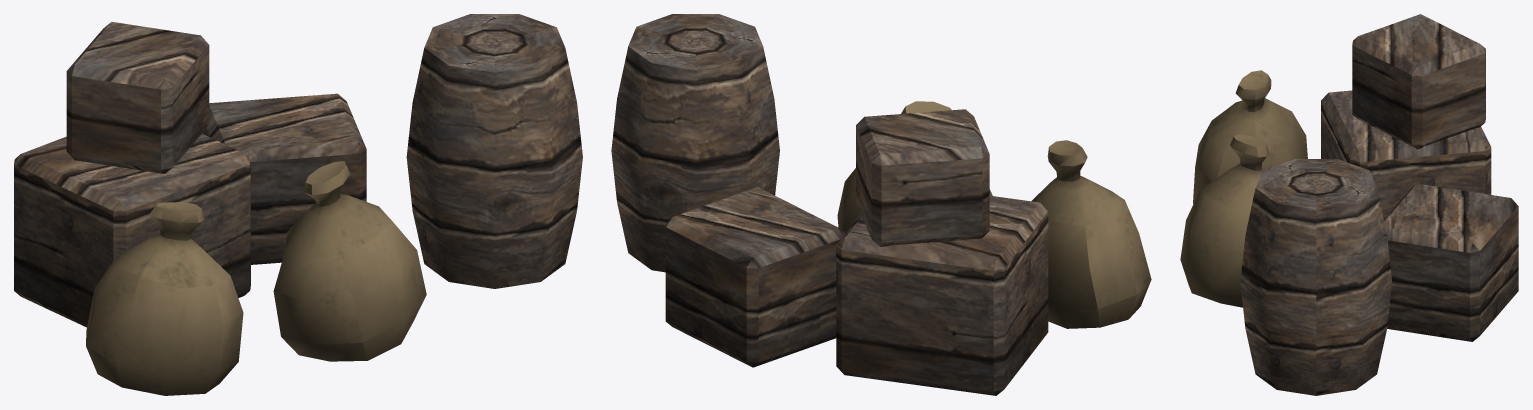
Rendered from camp_crates.glb.
The picture shows the model from 3 angles, left to right: view 1: azimuth 30°, elevation 25°; view 2: azimuth 150°, elevation 25°; view 3: azimuth 270°, elevation 25°; orthographic projection. The views are drawn at different scales.
Visible parts, largest first — view 1: camp_crates; view 2: camp_crates; view 3: camp_crates.
Boxes of the visible parts, x1=… form: camp_crates: x1=14, y1=14, x2=582, y2=395; camp_crates: x1=611, y1=14, x2=1151, y2=395; camp_crates: x1=1180, y1=14, x2=1518, y2=395.
Bounding box in the file's own units: 1.99 × 0.9125 × 1.32.
Materials: 2 (2 with a texture image).
